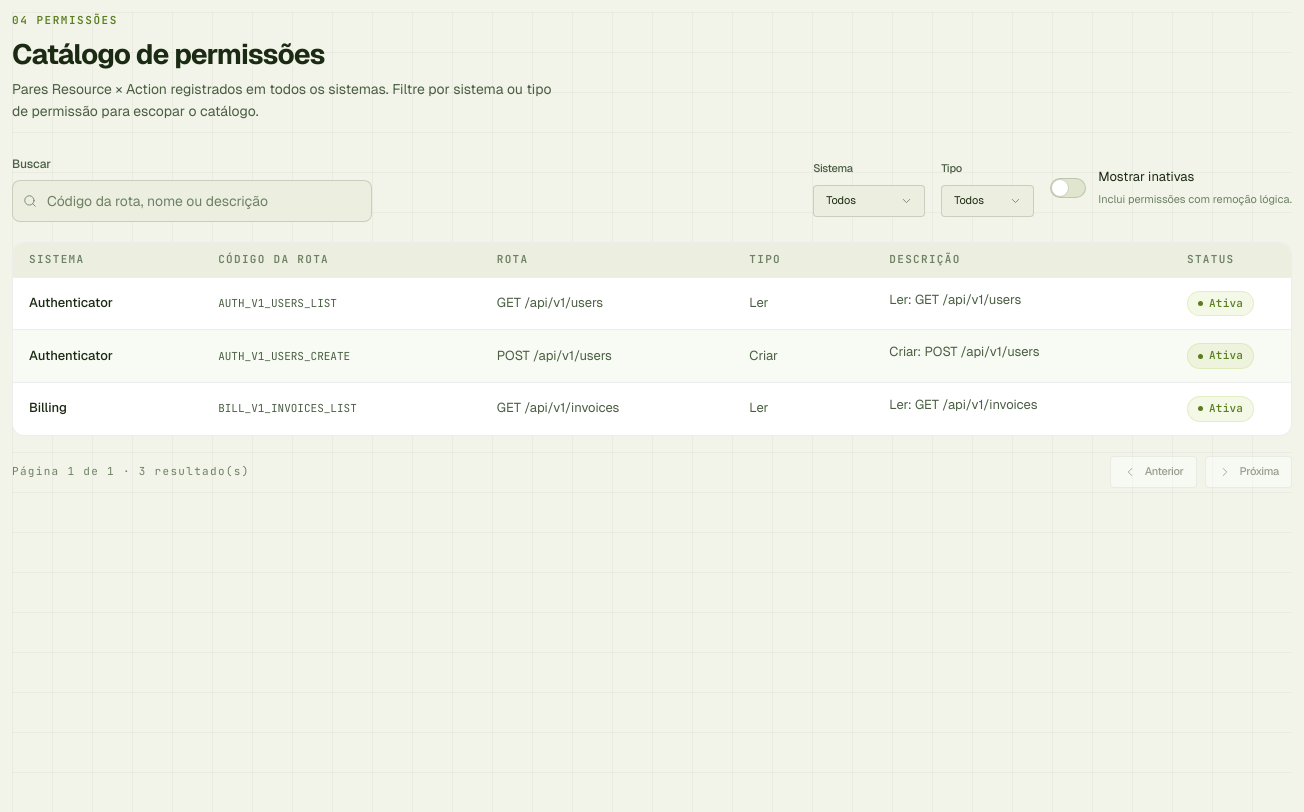
Test: PermissionsListShellPage — estados vazios › clicar em "limpar busca" reseta termo e re-popula a lista
The width and height of the screenshot is (1304, 812).
Type "naoexiste" into the search field with test id "permissions-search" at (192, 201), box [12,180,372,222]
Wait 300 ms
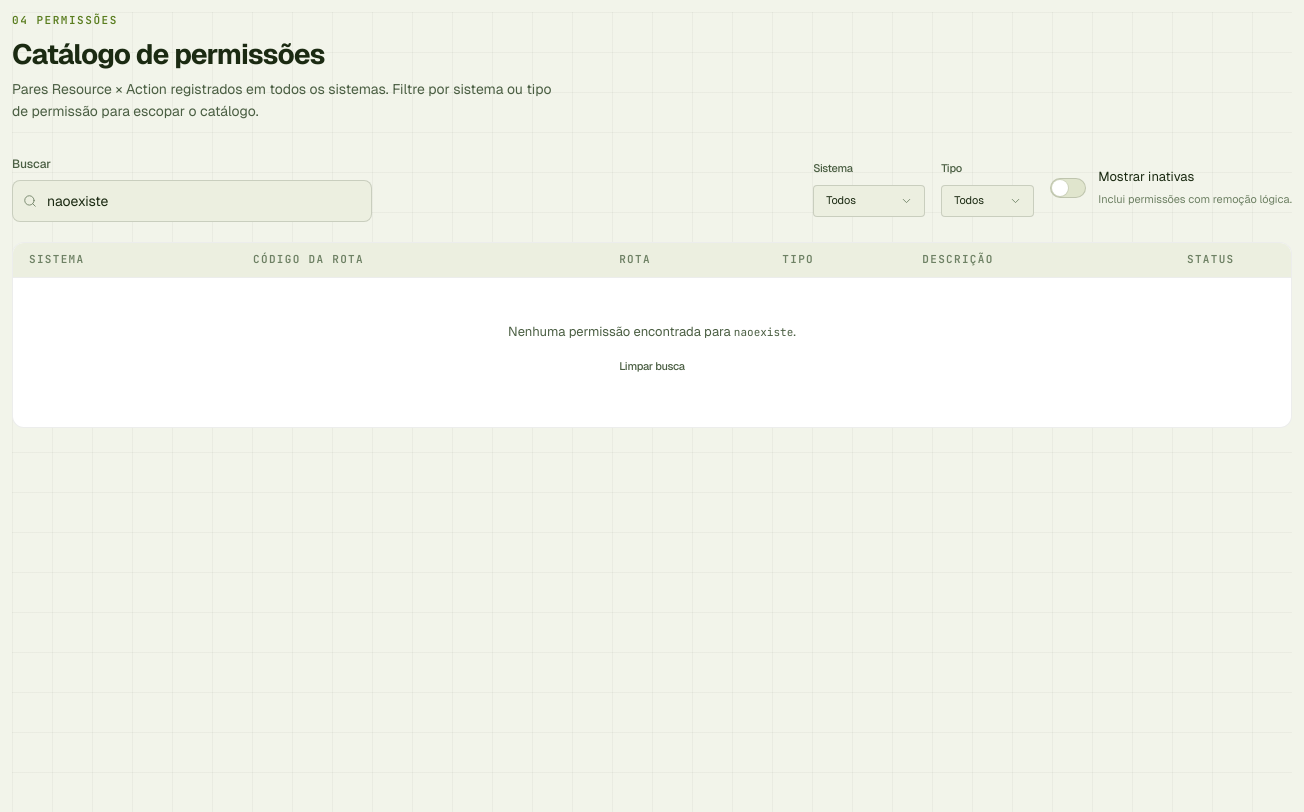
Click the button with test id "permissions-empty-clear" at (652, 366), box [606,350,698,382]
Wait 300 ms
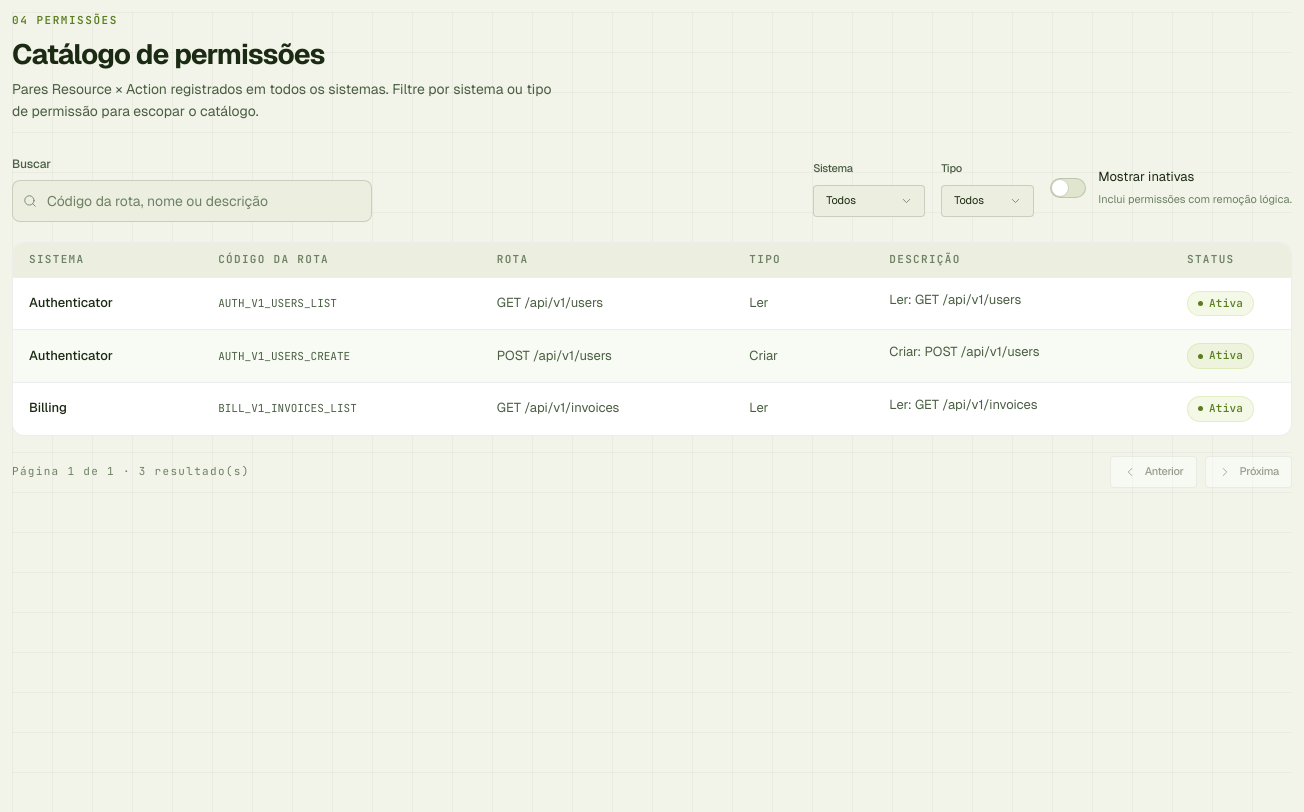
Result: the text "AUTH_V1_USERS_LIST" is shown at [218,296,337,310]
